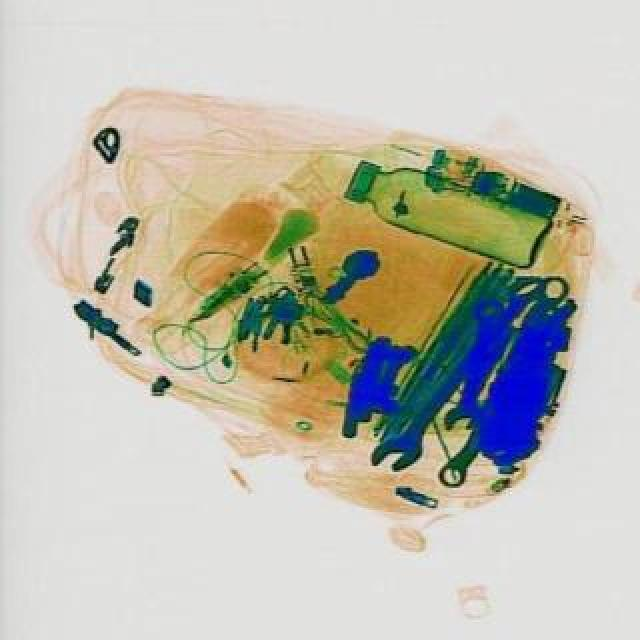scissors: (362, 266, 554, 482), (438, 294, 506, 434)
